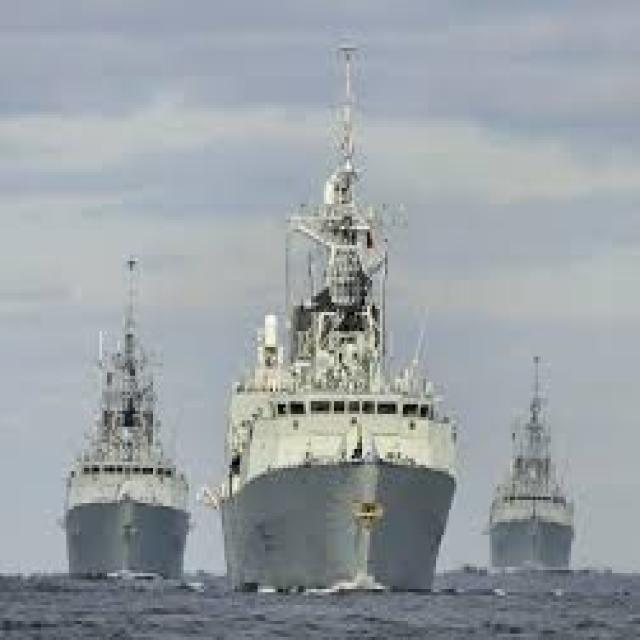navalvessels: (207, 60, 463, 615), (34, 270, 200, 584), (460, 353, 578, 566)
